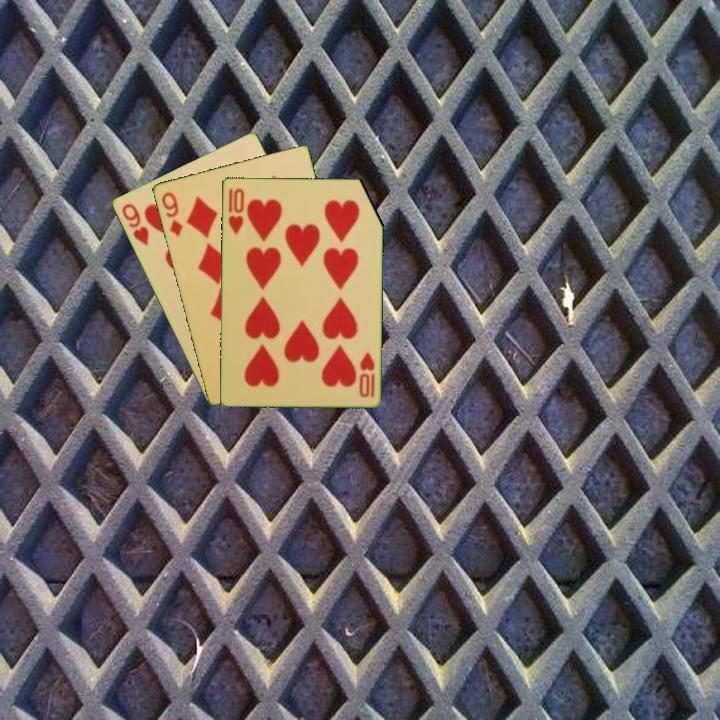10h: (225, 184, 247, 237), (355, 348, 377, 400)
9d: (158, 188, 185, 240)
9h: (118, 199, 151, 248)
